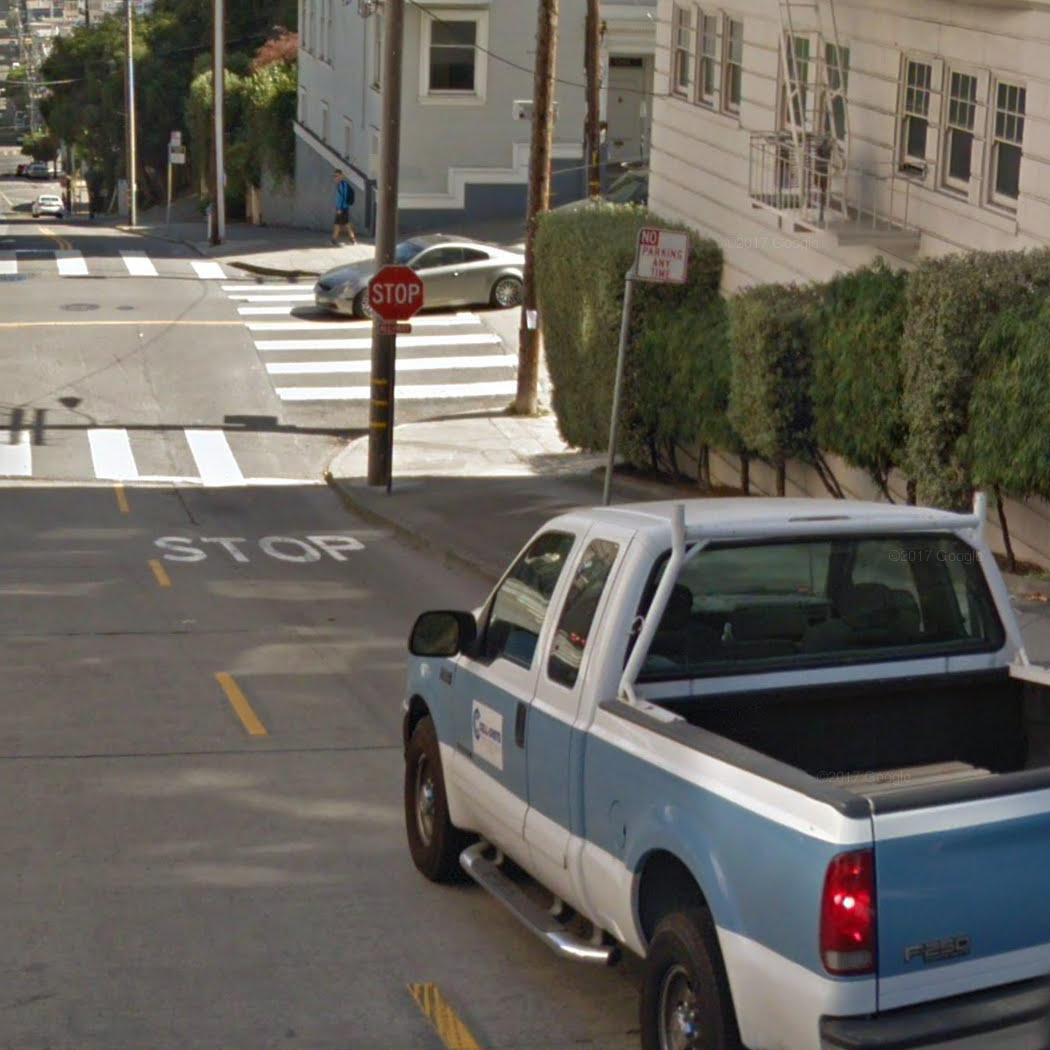No Parking Anytime: (633, 226, 691, 286)
